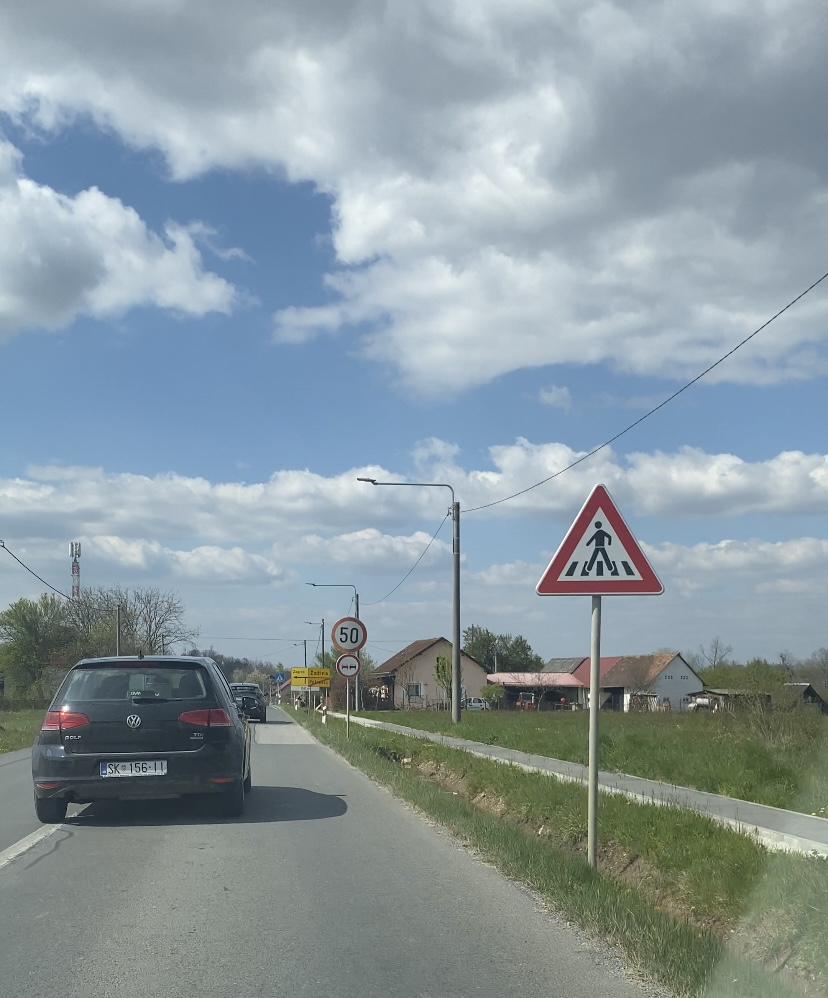Ograničenje brzine 50: (331, 616, 367, 653)
Približavanje pješačkom prijelazu: (536, 484, 664, 594)
Zabrana pretjecanja: (336, 653, 361, 678)
